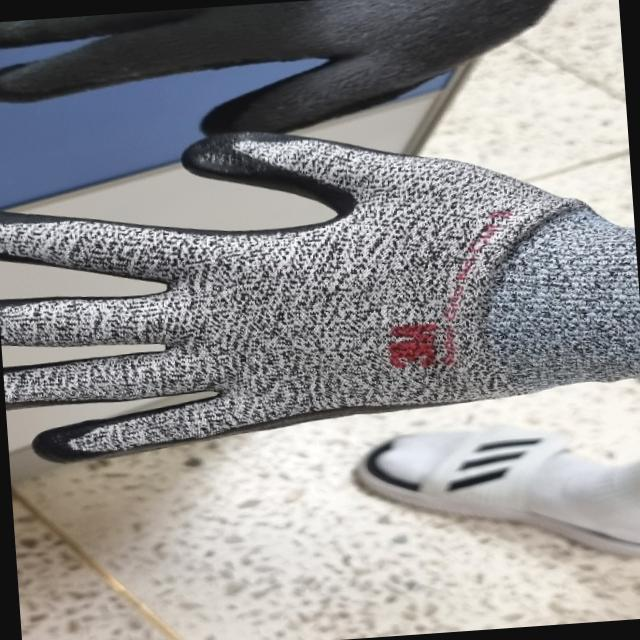Gloves: (0, 125, 637, 467), (0, 0, 557, 146)
